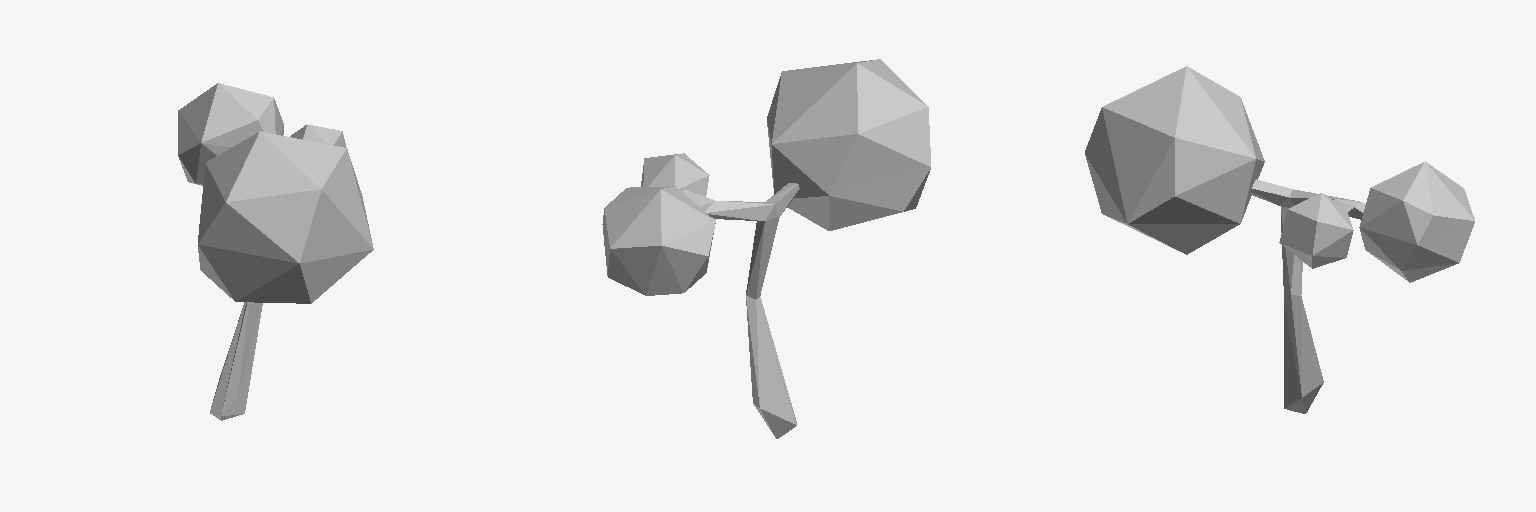
The model's file is tree3.obj.
3 views of the same model, side by side, from view 1: azimuth 30°, elevation 25°; view 2: azimuth 150°, elevation 25°; view 3: azimuth 270°, elevation 25° (orthographic).
Visible parts, largest first — view 1: Cube; view 2: Cube; view 3: Cube.
Boxes of the visible parts, <box> form: Cube: <box>178,83,373,420</box>; Cube: <box>602,59,930,438</box>; Cube: <box>1085,66,1474,413</box>.
Size of the model in its own units: 8 by 11.65 by 12.2.